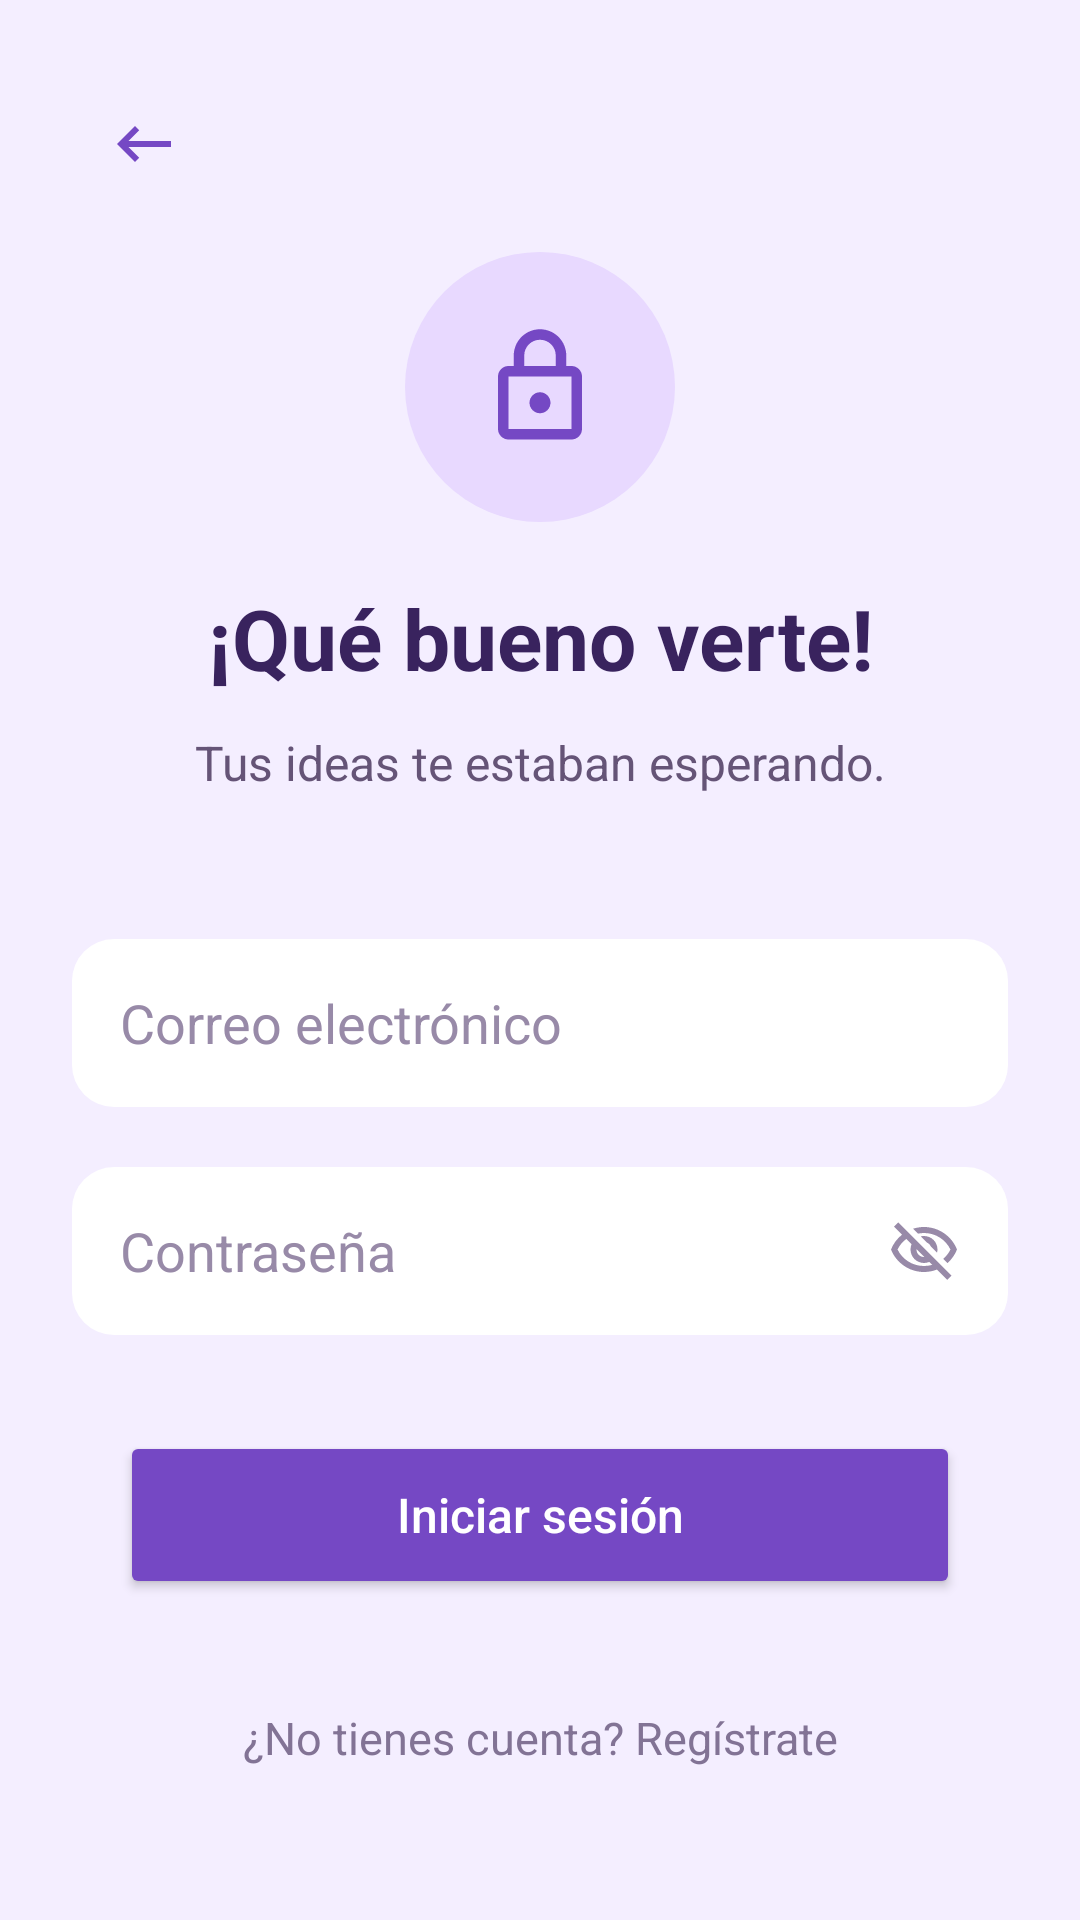

Point at icon controls on the screen. Image size 1080px x 1920px, points as (x=x, y=y).
Icono de inicio de sesión: (x=540, y=387)
Volver a bienvenida: (x=144, y=144)
